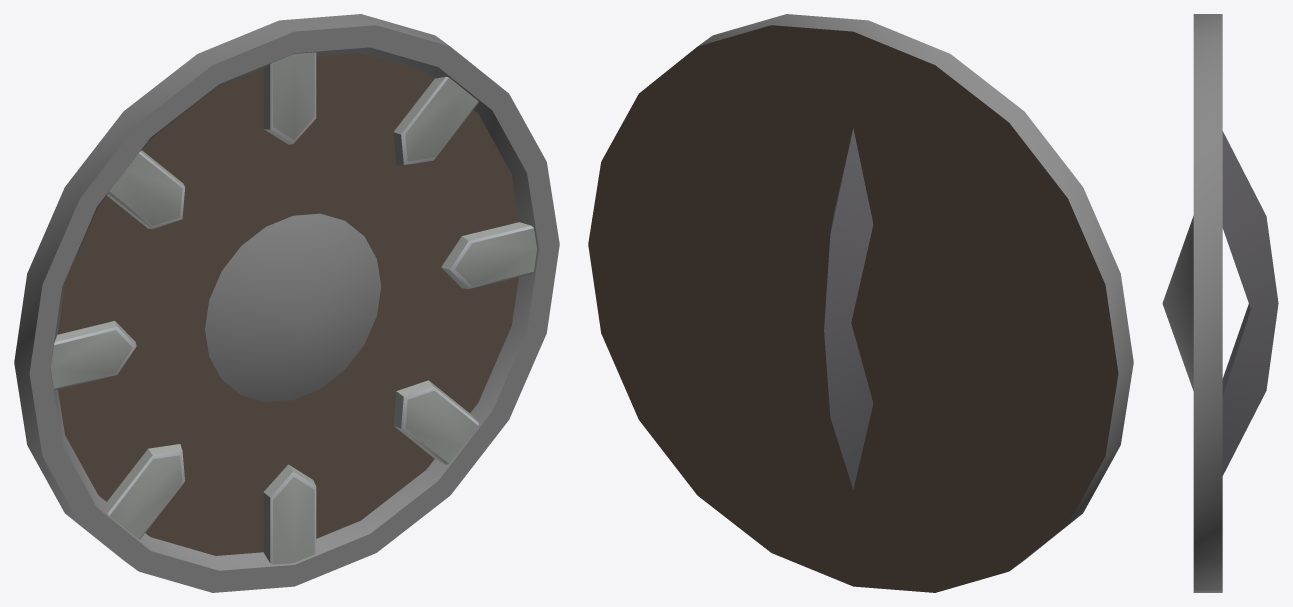
Rendered from Shield_2.fbx.
3 views of the same model, side by side, from view 1: azimuth 30°, elevation 25°; view 2: azimuth 150°, elevation 25°; view 3: azimuth 270°, elevation 25° (orthographic). The views are drawn at different scales.
Parts seen in each view (by area): view 1: polySurface325; view 2: polySurface325; view 3: polySurface325.
Boxes of the visible parts, left/top/right/bottom form: polySurface325: left=14, top=14, right=559, bottom=592; polySurface325: left=588, top=14, right=1133, bottom=592; polySurface325: left=1162, top=14, right=1278, bottom=592.
Size of the model in its own units: 200 by 200 by 39.82.
